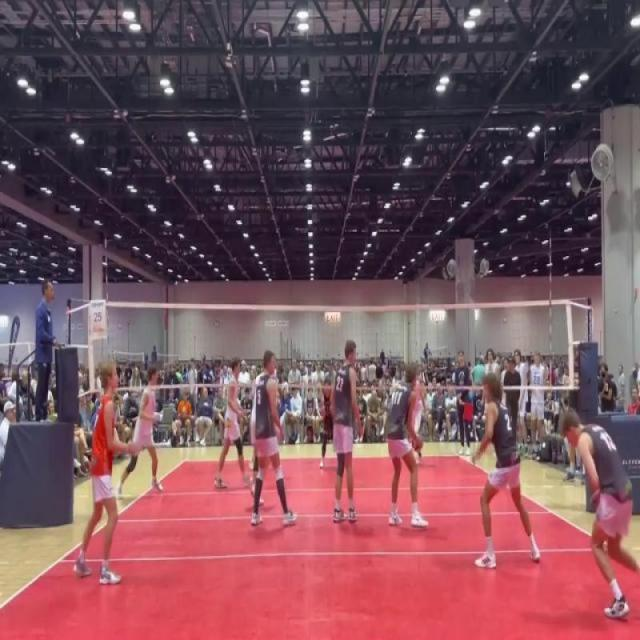volleyball: (410, 432, 424, 452)
